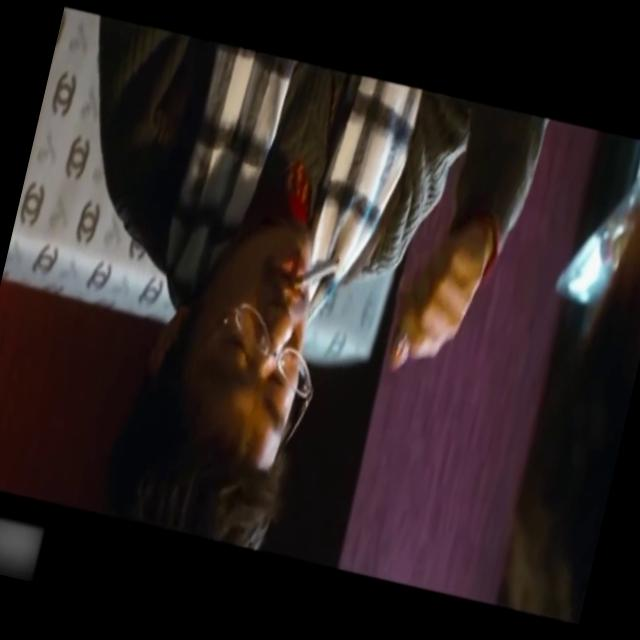cigarette: (288, 241, 347, 304)
